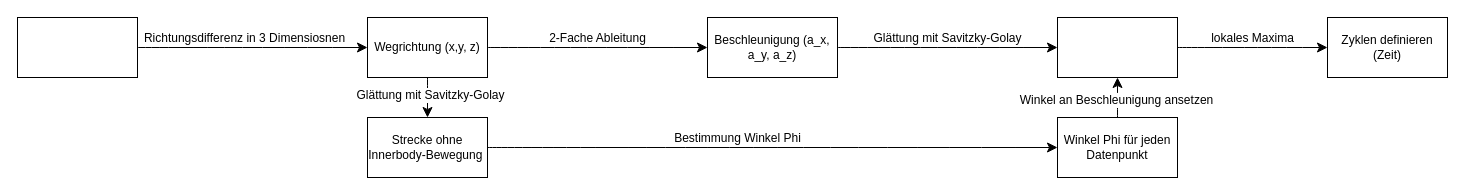
Image size: 1465x195. Some labels were removed from this diagram. The shapes that lost their labels are listed below. From the top down, each one's box as (x1, y1, x2, y2) in pixels, then its label:
(16, 16, 138, 78): Rohdaten (Longitude, Lattitude)
(1056, 16, 1178, 78): gefilterte Beschleunigung
